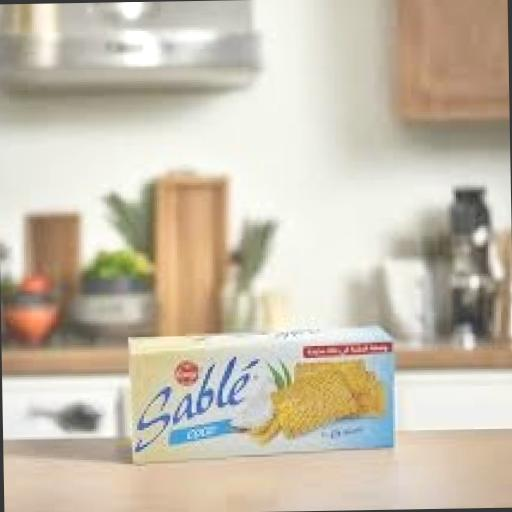sable: (112, 304, 434, 512)
